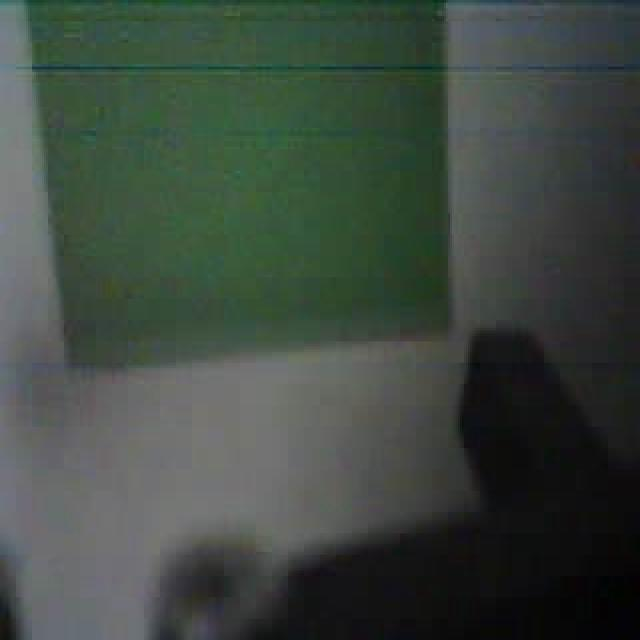green_box: (24, 0, 454, 371)
